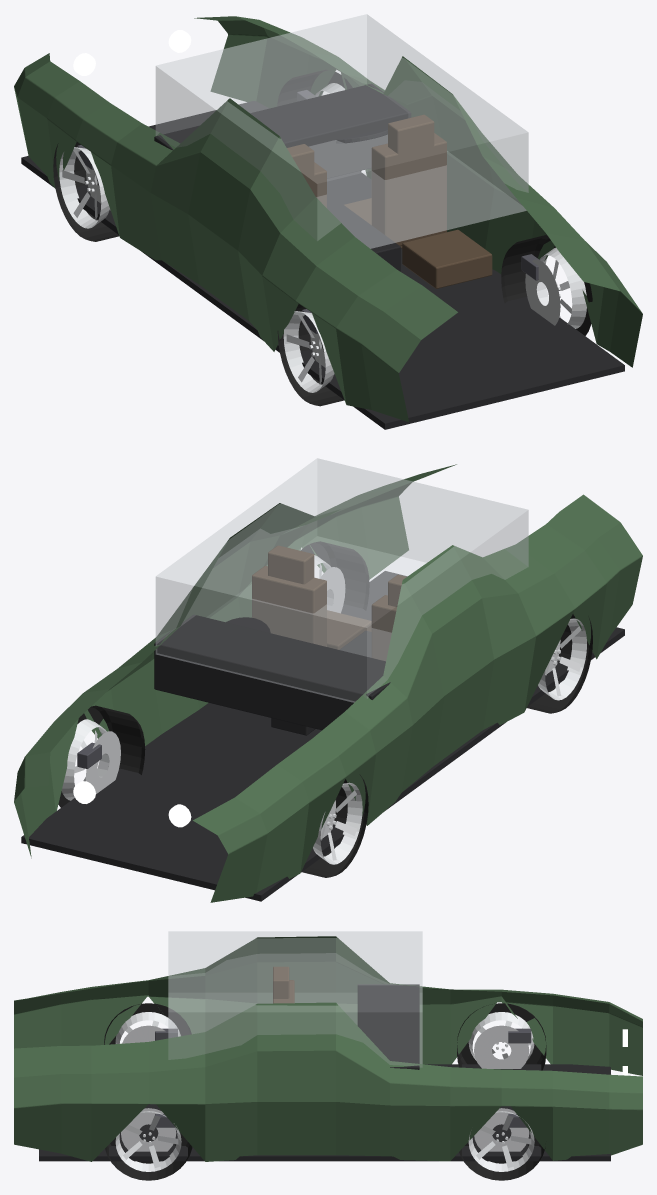
The model's file is Car_Aston_Martin_V8_Vantage_1970s_Complete.glb.
The picture shows the model from 3 angles, top to bottom: view 1: azimuth 30°, elevation 25°; view 2: azimuth 150°, elevation 25°; view 3: azimuth 270°, elevation 25°; orthographic projection. The views are drawn at different scales.
Parts seen in each view (by area): view 1: BODY_AstonMartin_V8Vantage_MainShell, GLASS_AstonMartin_V8Vantage, CHASSIS_BellyPan, INTERIOR_GTSeats, INTERIOR_Dashboard, WHEEL_FR_Rim, WHEEL_RR_Rim, WHEEL_RL_Tire, WHEEL_RL_Rim, BRAKE_RL_Rotor, WHEEL_FR_Tire, WHEEL_RR_Tire (+2 smaller); view 2: BODY_AstonMartin_V8Vantage_MainShell, GLASS_AstonMartin_V8Vantage, CHASSIS_BellyPan, INTERIOR_Dashboard, INTERIOR_GTSeats, WHEEL_FL_Tire, WHEEL_RL_Tire, WHEEL_FR_Rim, WHEEL_RR_Rim, WHEEL_FR_Tire, WHEEL_FL_Rim, WHEEL_RR_Tire (+3 smaller); view 3: BODY_AstonMartin_V8Vantage_MainShell, GLASS_AstonMartin_V8Vantage, CHASSIS_BellyPan, INTERIOR_Dashboard, BRAKE_FR_Rotor, WHEEL_RL_Rim, WHEEL_FL_Rim, BRAKE_RL_Rotor, BRAKE_FL_Rotor, WHEEL_FR_Tire, WHEEL_RL_Tire, WHEEL_FL_Tire (+5 smaller).
Boxes of the visible parts, <box> form: BODY_AstonMartin_V8Vantage_MainShell: <box>14,16,642,422</box>; GLASS_AstonMartin_V8Vantage: <box>155,14,528,248</box>; CHASSIS_BellyPan: <box>21,101,624,429</box>; INTERIOR_GTSeats: <box>287,114,492,288</box>; INTERIOR_Dashboard: <box>154,83,411,271</box>; WHEEL_FR_Rim: <box>59,147,109,228</box>; WHEEL_RR_Rim: <box>283,311,334,392</box>; WHEEL_RL_Tire: <box>501,235,592,335</box>; WHEEL_RL_Rim: <box>536,247,586,328</box>; BRAKE_RL_Rotor: <box>525,259,560,325</box>; WHEEL_FR_Tire: <box>53,142,119,241</box>; WHEEL_RR_Tire: <box>277,304,344,406</box>; BODY_AstonMartin_V8Vantage_MainShell: <box>14,464,642,902</box>; GLASS_AstonMartin_V8Vantage: <box>155,458,528,702</box>; CHASSIS_BellyPan: <box>21,571,624,901</box>; INTERIOR_Dashboard: <box>154,614,390,735</box>; INTERIOR_GTSeats: <box>252,545,406,661</box>; WHEEL_FL_Tire: <box>58,705,145,807</box>; WHEEL_RL_Tire: <box>301,541,369,610</box>; WHEEL_FR_Rim: <box>313,782,362,864</box>; WHEEL_RR_Rim: <box>538,618,586,700</box>; WHEEL_FR_Tire: <box>302,774,368,877</box>; WHEEL_FL_Rim: <box>61,719,109,800</box>; WHEEL_RR_Tire: <box>527,614,592,713</box>; BODY_AstonMartin_V8Vantage_MainShell: <box>14,936,642,1161</box>; GLASS_AstonMartin_V8Vantage: <box>168,931,422,1067</box>; CHASSIS_BellyPan: <box>39,1064,610,1161</box>; INTERIOR_Dashboard: <box>357,984,419,1069</box>; BRAKE_FR_Rotor: <box>474,1025,529,1068</box>; WHEEL_RL_Rim: <box>115,1111,181,1171</box>; WHEEL_FL_Rim: <box>468,1111,534,1171</box>; BRAKE_RL_Rotor: <box>121,1108,176,1151</box>; BRAKE_FL_Rotor: <box>474,1108,529,1151</box>; WHEEL_FR_Tire: <box>457,1003,546,1070</box>; WHEEL_RL_Tire: <box>105,1134,192,1180</box>; WHEEL_FL_Tire: <box>459,1137,545,1180</box>.
Size of the model in its own units: 1.88 by 1.33 by 4.65.
